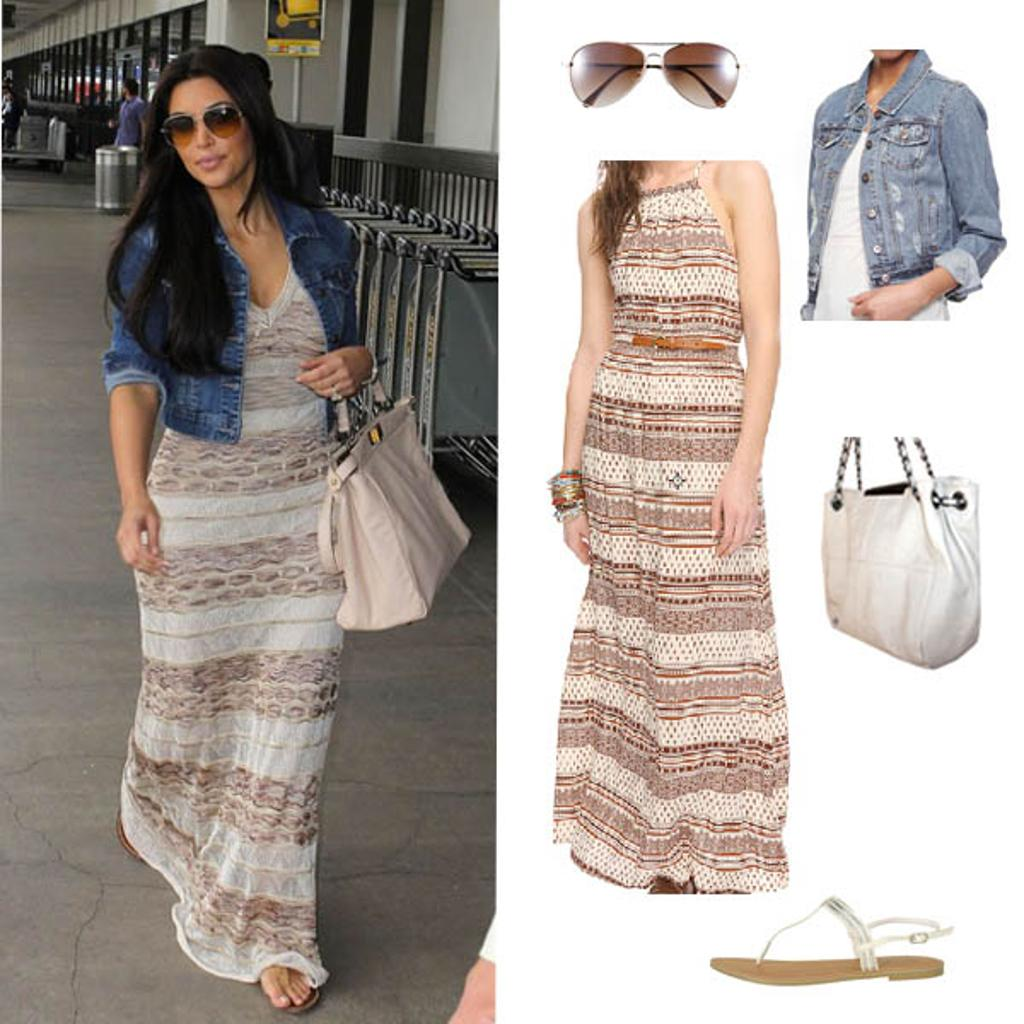face: (168, 76, 250, 188)
